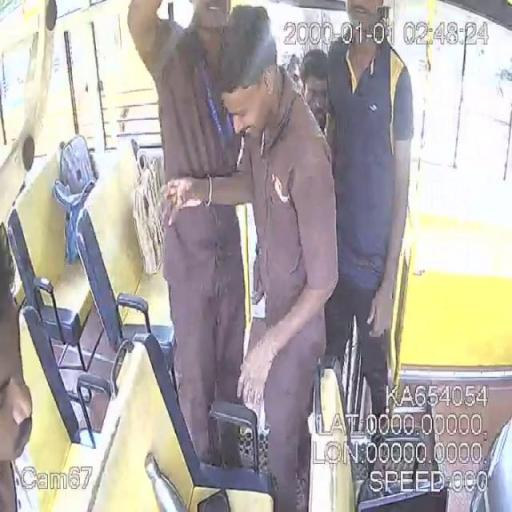persona: (160, 4, 340, 510), (126, 0, 250, 467), (322, 0, 416, 434), (0, 222, 35, 511), (298, 48, 331, 138)
